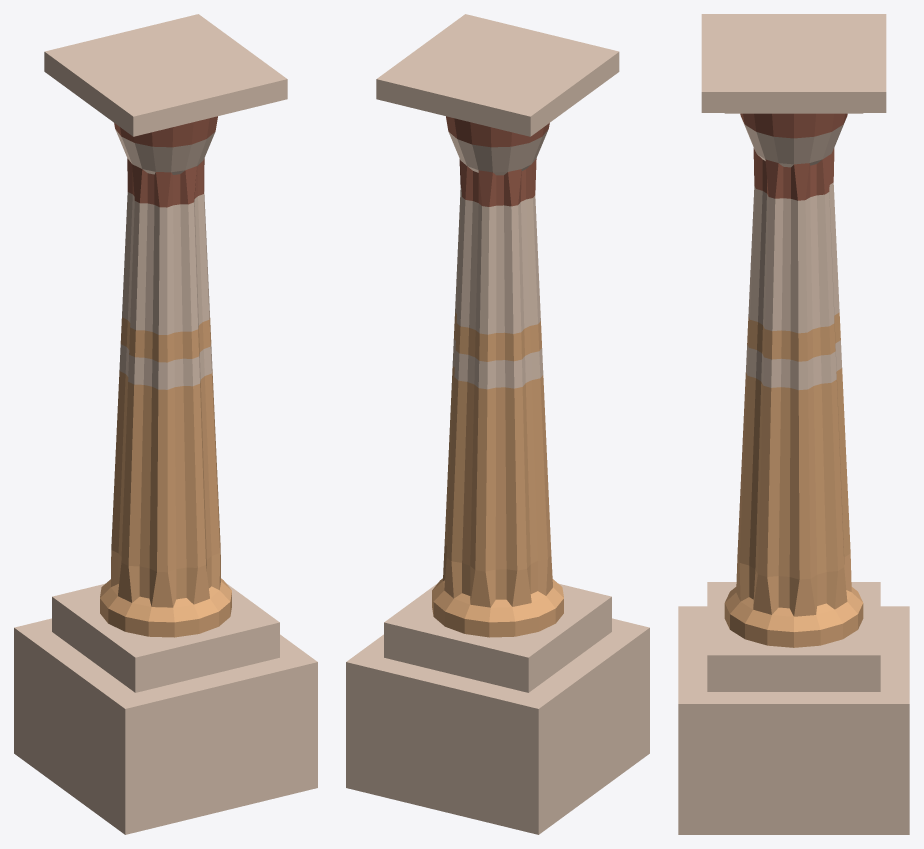
The model's file is greek_column_1.fbx.
3 renders of one model, left to right at view 1: azimuth 30°, elevation 25°; view 2: azimuth 150°, elevation 25°; view 3: azimuth 270°, elevation 25°, orthographic. The views are drawn at different scales.
Visible parts, largest first — view 1: Cylinder; view 2: Cylinder; view 3: Cylinder.
Part boxes in pixels (x1,y1,x2,y2): Cylinder: [14, 14, 317, 834]; Cylinder: [346, 14, 649, 834]; Cylinder: [678, 14, 909, 834].
Bounding box in the file's own units: 200 × 700 × 200.
